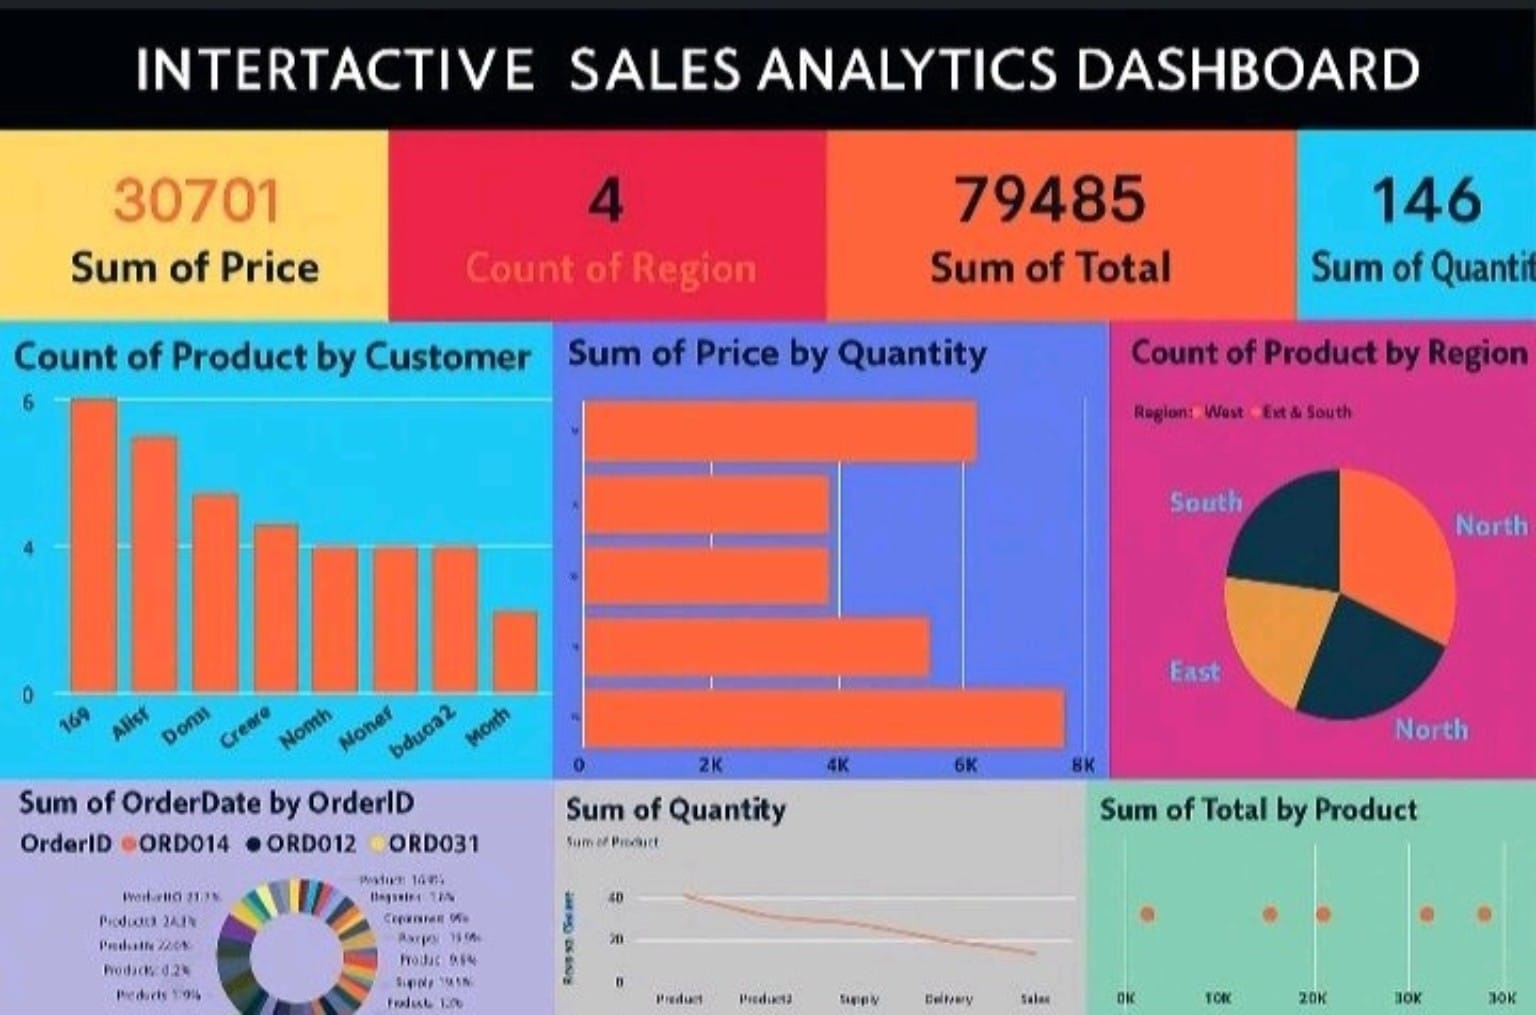

What the dashboard file says about the page in this screenshot:
{"tool":"powerbi","page":{"name":"Page 1","canvas":[1280,722],"ordinal":0},"visuals":[{"type":"shape","box":[0,1.4,1280,70],"z":0},{"type":"card","fields":{"Values":["Sum(Sheet1.Price)"]},"box":[0,70,298,106],"z":1000},{"type":"card","fields":{"Values":["Count(Sheet1.Region)"]},"box":[298.3,70,341.7,106.7],"z":2000},{"type":"card","fields":{"Values":["Sum(Sheet1.Total)"]},"box":[640,71.7,310,106.7],"z":3000},{"type":"card","fields":{"Values":["Sum(Sheet1.Quantity)"]},"box":[950,71.4,330,107.1],"z":4000},{"type":"columnChart","fields":{"Category":["Sheet1.Customer"],"Y":["CountNonNull(Sheet1.Product)"]},"box":[0,175,433.3,326.7],"z":5000},{"type":"clusteredBarChart","fields":{"Category":["Sheet1.Quantity"],"Y":["Sum(Sheet1.Price)"]},"box":[431.7,178.3,445,321.7],"z":6000},{"type":"pieChart","fields":{"Y":["CountNonNull(Sheet1.Product)"],"Category":["Sheet1.Region"]},"box":[876.7,178.3,403.3,323.3],"z":7000},{"type":"donutChart","fields":{"Category":["Sheet1.OrderID"],"Y":["Sum(Sheet1.OrderDate)"]},"box":[0,500,385,220],"z":8000},{"type":"lineChart","fields":{"Category":["Sheet1.Product"],"Y":["Sum(Sheet1.Quantity)"]},"box":[385.7,501.4,481.4,220],"z":9000},{"type":"scatterChart","fields":{"Category":["Sheet1.Product"],"X":["Sum(Sheet1.Total)"]},"box":[867.1,501.4,412.9,220],"z":10000}]}

Visuals, with their boxes on the page's 1280x722 design canvas (x1, y1, x2, y2). These are canvas units, not pixel positions in the 1536x1015 screenshot, which may show the page scaled, cropped or inside an application window:
shape: <bbox>0, 1, 1280, 71</bbox>
card - Sum(Sheet1.Price): <bbox>0, 70, 298, 176</bbox>
card - Count(Sheet1.Region): <bbox>298, 70, 640, 177</bbox>
card - Sum(Sheet1.Total): <bbox>640, 72, 950, 178</bbox>
card - Sum(Sheet1.Quantity): <bbox>950, 71, 1280, 178</bbox>
columnChart - Sheet1.Customer x CountNonNull(Sheet1.Product): <bbox>0, 175, 433, 502</bbox>
clusteredBarChart - Sheet1.Quantity x Sum(Sheet1.Price): <bbox>432, 178, 877, 500</bbox>
pieChart - CountNonNull(Sheet1.Product) x Sheet1.Region: <bbox>877, 178, 1280, 502</bbox>
donutChart - Sheet1.OrderID x Sum(Sheet1.OrderDate): <bbox>0, 500, 385, 720</bbox>
lineChart - Sheet1.Product x Sum(Sheet1.Quantity): <bbox>386, 501, 867, 721</bbox>
scatterChart - Sheet1.Product x Sum(Sheet1.Total): <bbox>867, 501, 1280, 721</bbox>
